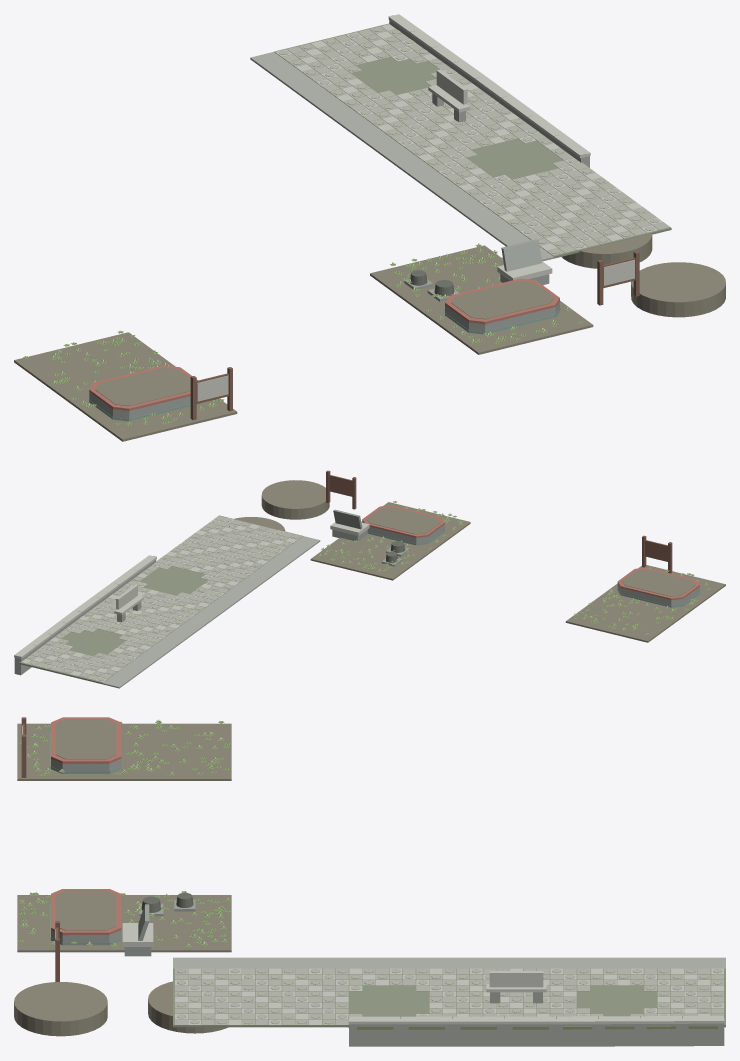
Rendered from dongpo-fixtures.glb.
3 views of the same model, one above another, from view 1: azimuth 30°, elevation 25°; view 2: azimuth 150°, elevation 25°; view 3: azimuth 270°, elevation 25° (orthographic). The views are drawn at different scales.
Visible parts, largest first — view 1: dongpo-fixtures; view 2: dongpo-fixtures; view 3: dongpo-fixtures.
Part boxes in pixels (x1,y1,x2,y2): dongpo-fixtures: (14, 14, 725, 441); dongpo-fixtures: (14, 470, 725, 688); dongpo-fixtures: (14, 717, 725, 1046).
Size of the model in its own units: 21.63 by 1.93 by 21.25.
